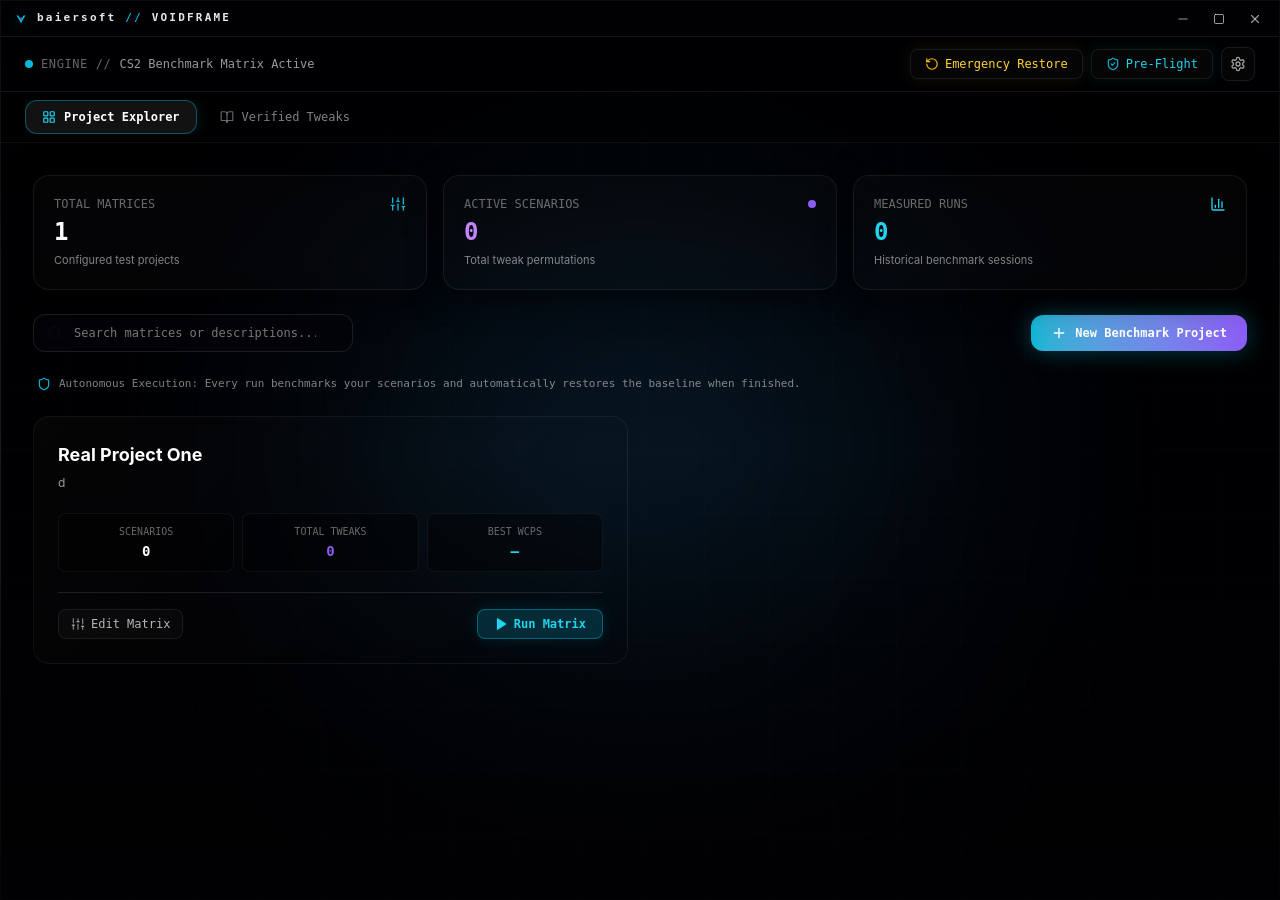
Test case: App reboot-core wiring (M3) › does not let a stale getRunProgress response from a previous run overwrite a newer run's progress
Expected: the heading "Real Project One" is shown, [58,441,202,469]
Click the button "Run Matrix". click: (540, 624)
box: [477,608,603,638]
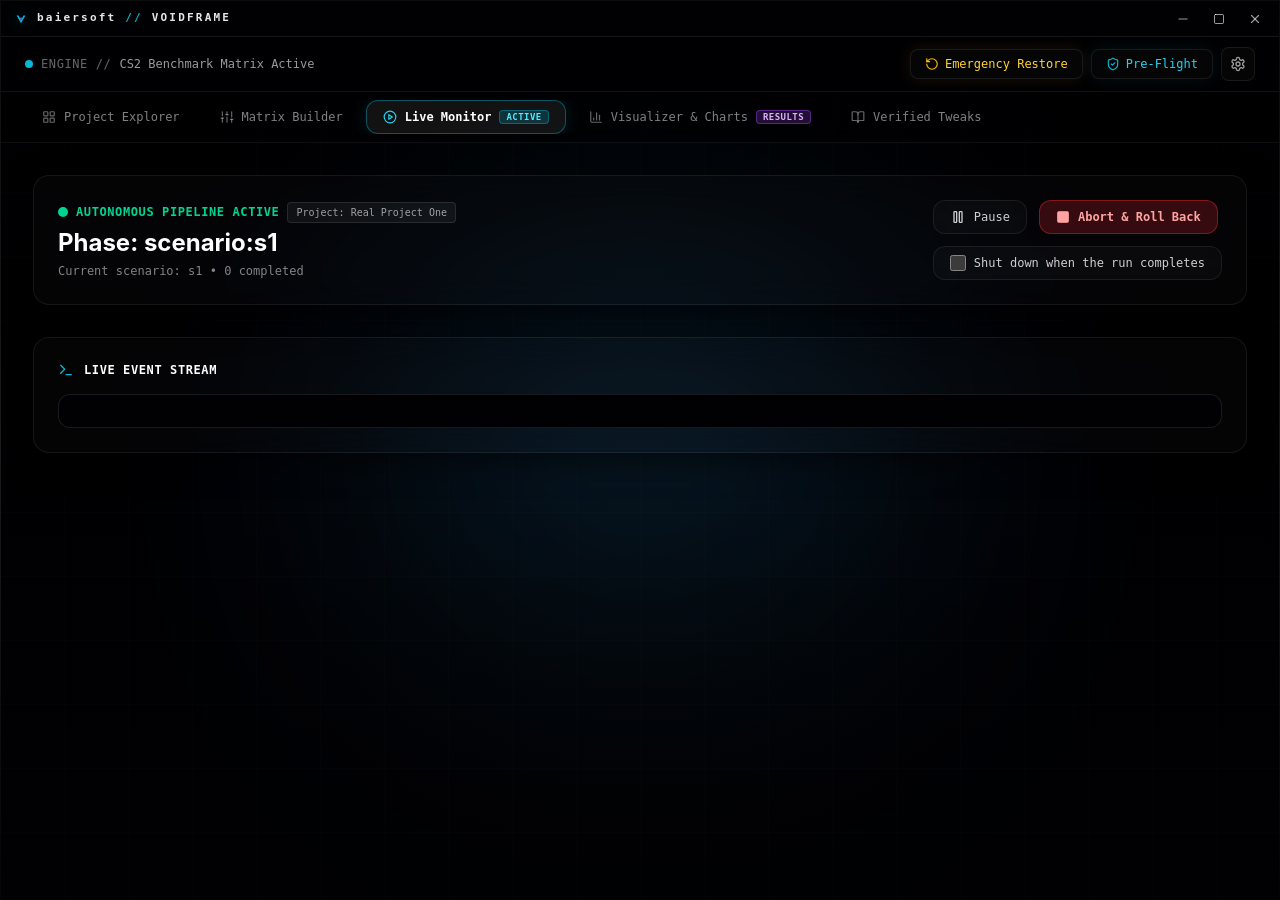
Click the button "Project Explorer". click: (111, 117)
box: [25,100,197,134]
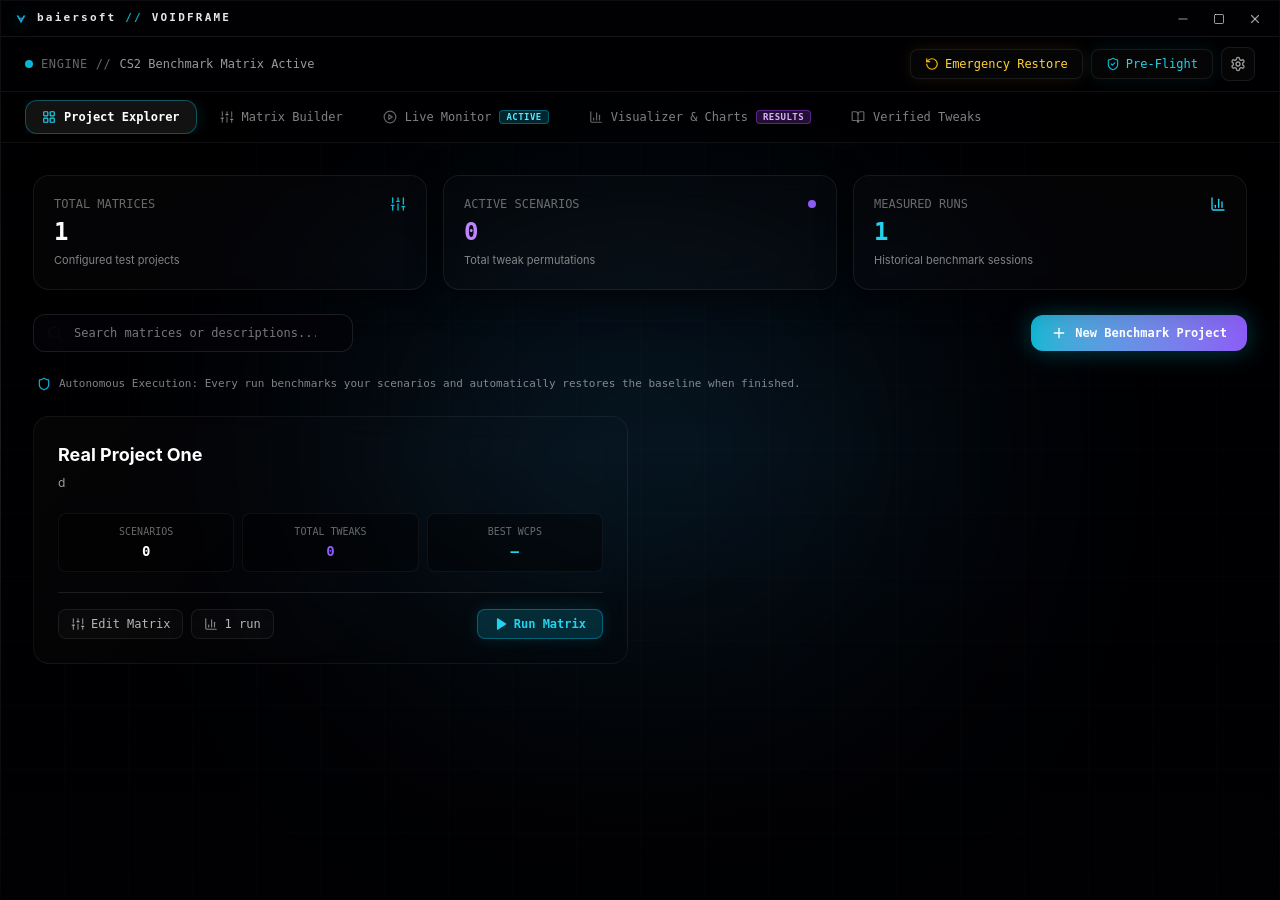
Now the button "Run Matrix" is shown
Click the button "Run Matrix". click: (540, 624)
box: [477,608,603,638]
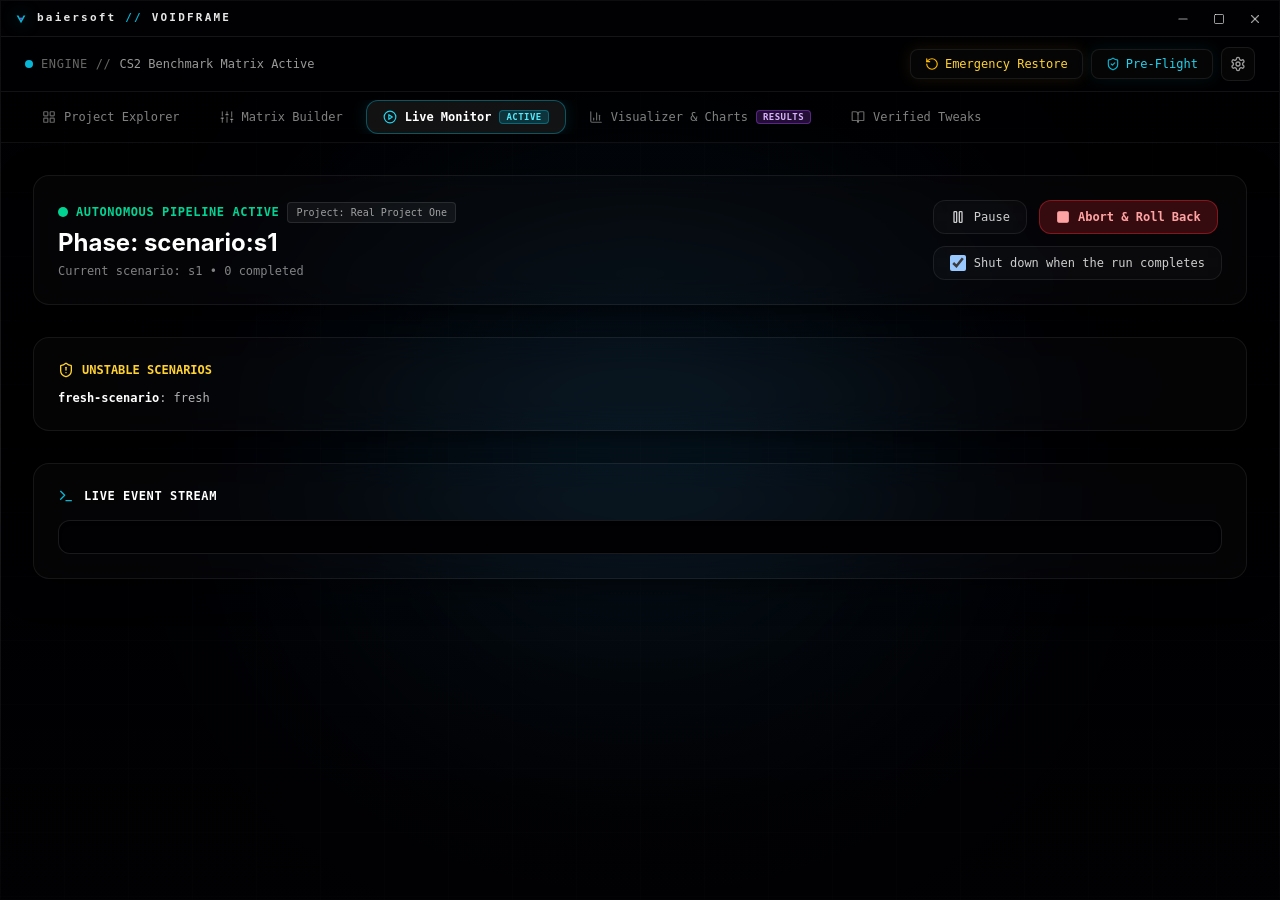
Now the text "fresh-scenario" is shown, box [58,391,159,405]
